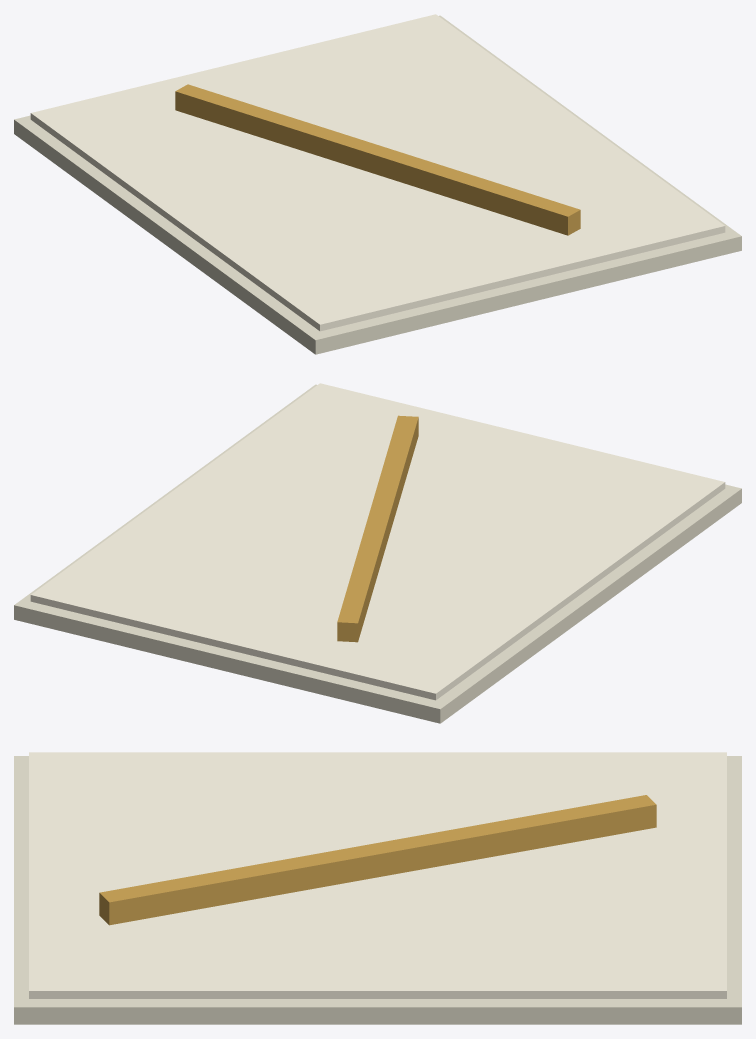
The model's file is paper-and-pencil.glb.
The picture shows the model from 3 angles, top to bottom: view 1: azimuth 30°, elevation 25°; view 2: azimuth 150°, elevation 25°; view 3: azimuth 270°, elevation 25°; orthographic projection. The views are drawn at different scales.
Parts seen in each view (by area): view 1: paper-top, paper-stack, pencil; view 2: paper-top, paper-stack, pencil; view 3: paper-top, paper-stack, pencil.
Boxes of the visible parts, x1,y1,x2,y2 form: paper-top: (30, 14, 725, 331); paper-stack: (14, 15, 741, 354); pencil: (175, 84, 580, 235); paper-top: (30, 383, 725, 700); paper-stack: (14, 384, 741, 723); pencil: (337, 415, 418, 642); paper-top: (29, 752, 726, 998); paper-stack: (14, 756, 741, 1024); pencil: (99, 795, 656, 925).
Bounding box in the file's own units: 4 × 0.375 × 4.9.
